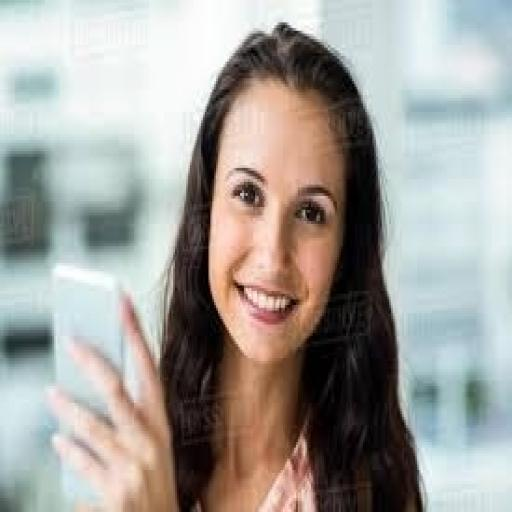texting: (45, 20, 432, 509)
